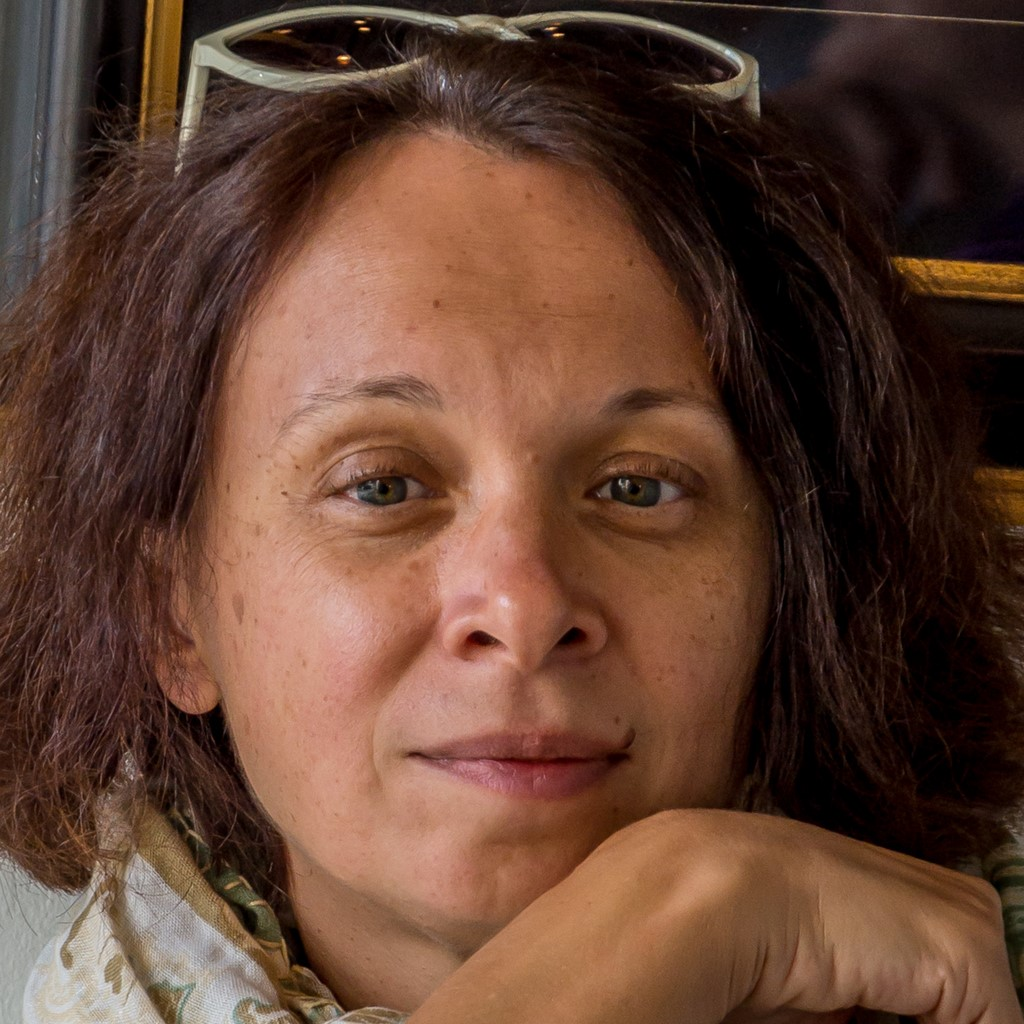sin_mascara: (181, 100, 755, 926)
